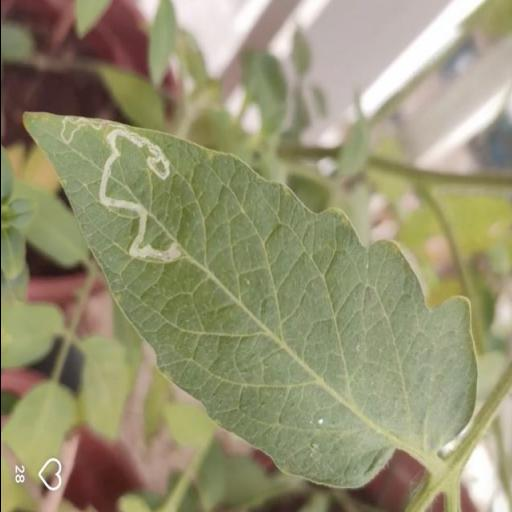disease_tomato: (24, 104, 478, 490)
